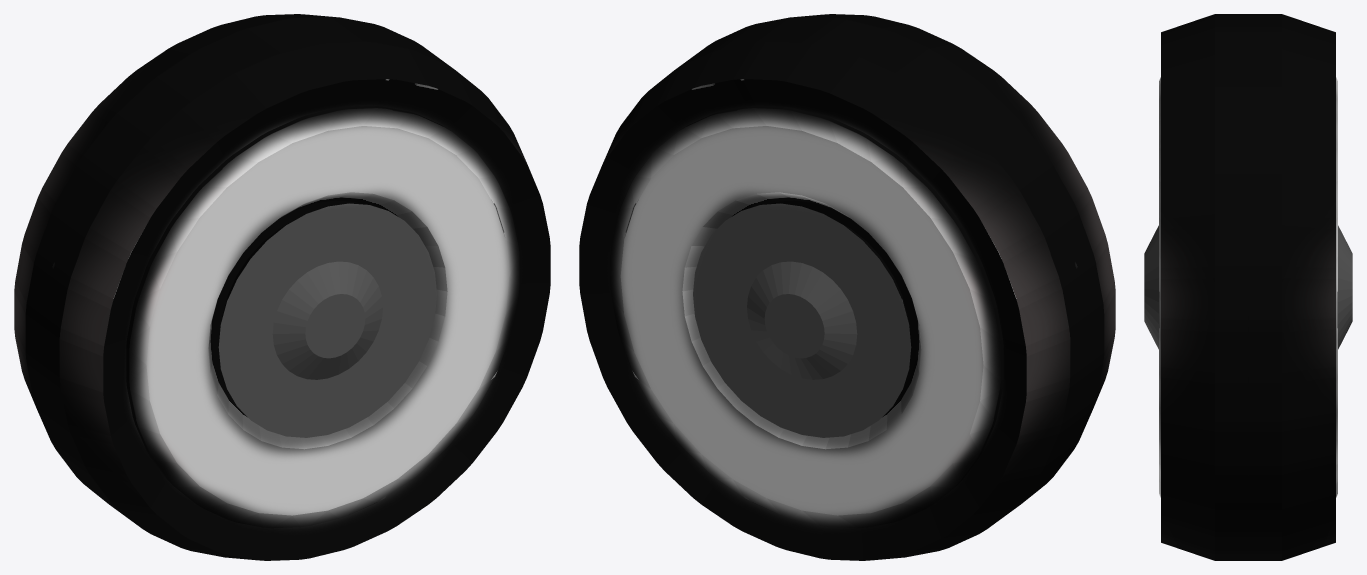
The model's file is delivery_truck_wheel.fbx.
3 views of the same model, side by side, from view 1: azimuth 30°, elevation 25°; view 2: azimuth 150°, elevation 25°; view 3: azimuth 270°, elevation 25° (orthographic).
Visible parts, largest first — view 1: FL Wheel; view 2: FL Wheel; view 3: FL Wheel.
Part boxes in pixels (<box>): FL Wheel: <box>14,14,550,560</box>; FL Wheel: <box>579,14,1115,560</box>; FL Wheel: <box>1144,14,1352,560</box>.
Size of the model in its own units: 183 by 183 by 69.84.
1 material, 1 textured.
